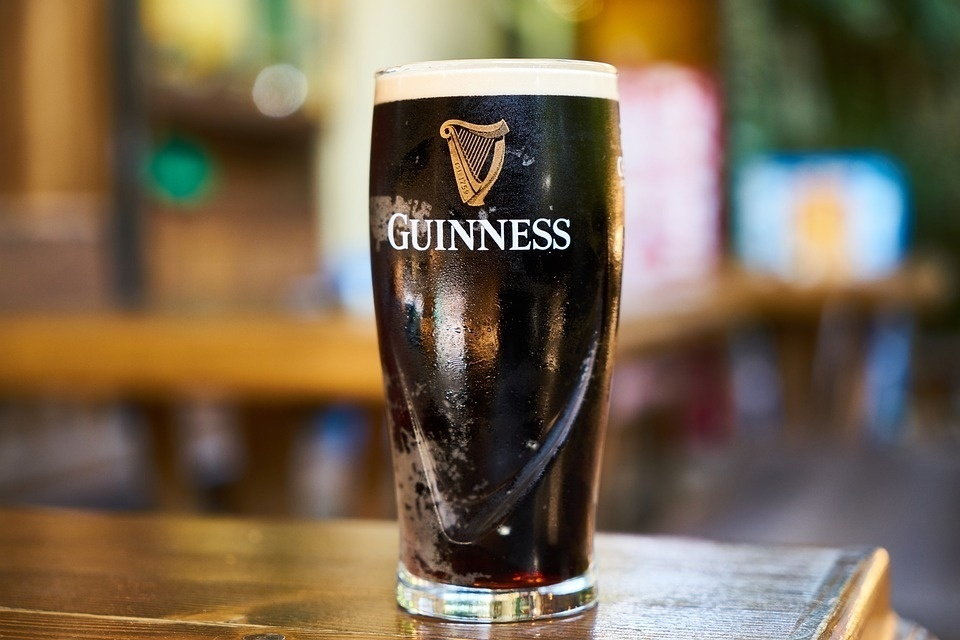whiskey: (368, 68, 627, 609)
